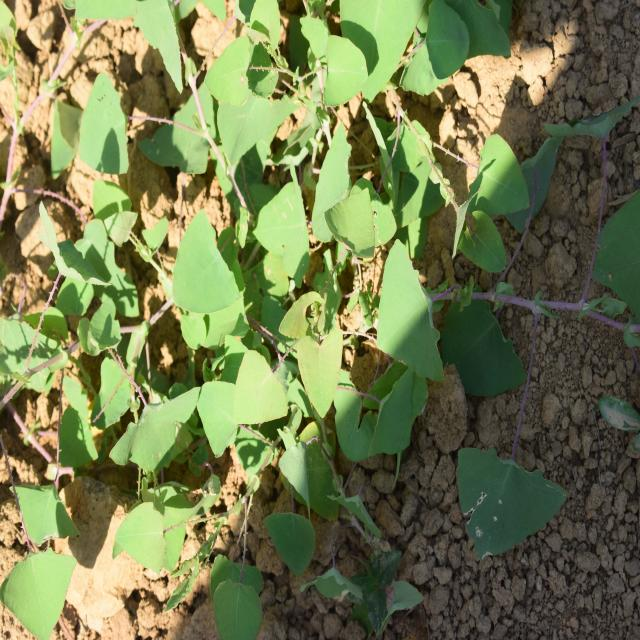Asiatic_Smartweed: (363, 126, 568, 564), (99, 215, 295, 453), (189, 12, 368, 166), (47, 44, 182, 188), (2, 488, 92, 620)
